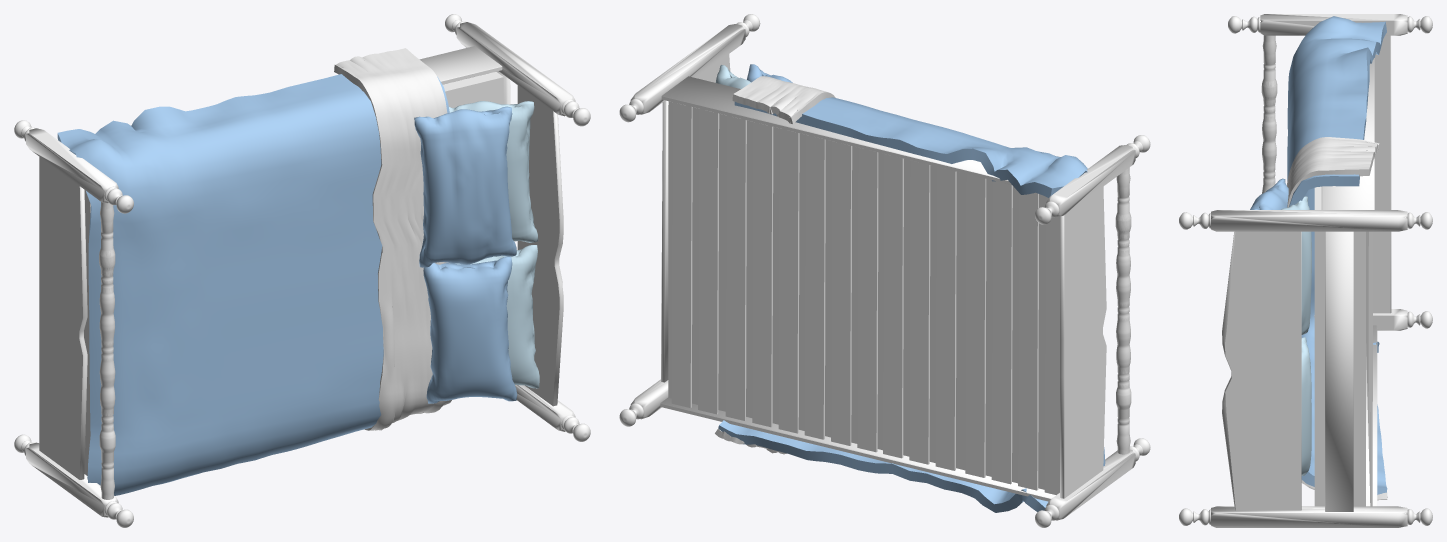
The model's file is Bed 7.fbx.
3 views of the same model, side by side, from view 1: azimuth 30°, elevation 25°; view 2: azimuth 150°, elevation 25°; view 3: azimuth 270°, elevation 25° (orthographic). The views are drawn at different scales.
Visible parts, largest first — view 1: Back; view 2: Back; view 3: Back.
Boxes of the visible parts, bbox=[...] form: Back: bbox=[14, 14, 590, 527]; Back: bbox=[619, 14, 1150, 527]; Back: bbox=[1179, 14, 1432, 527].
Bounding box in the file's own units: 218 × 173 × 114.
